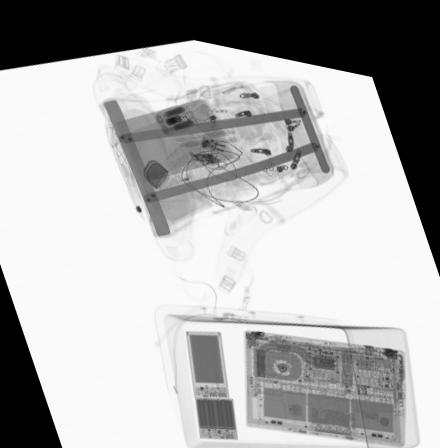Powerbank: (184, 321, 230, 391), (194, 389, 239, 430)
